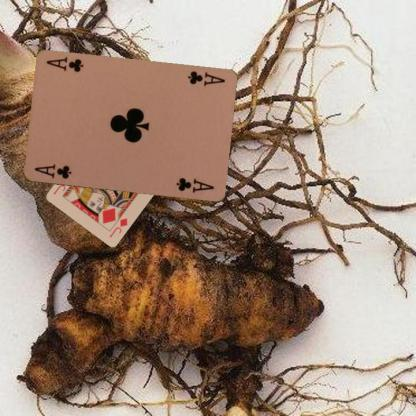Ac: (32, 161, 73, 180), (185, 69, 226, 88)
Jd: (106, 215, 129, 238)
